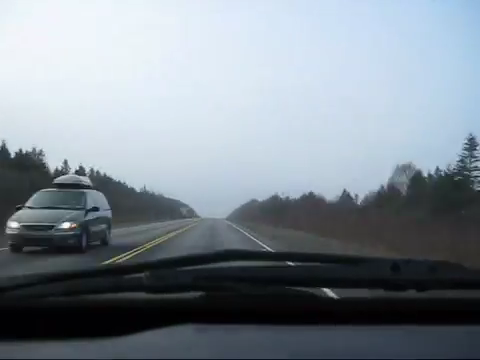car: (5, 172, 112, 255)
